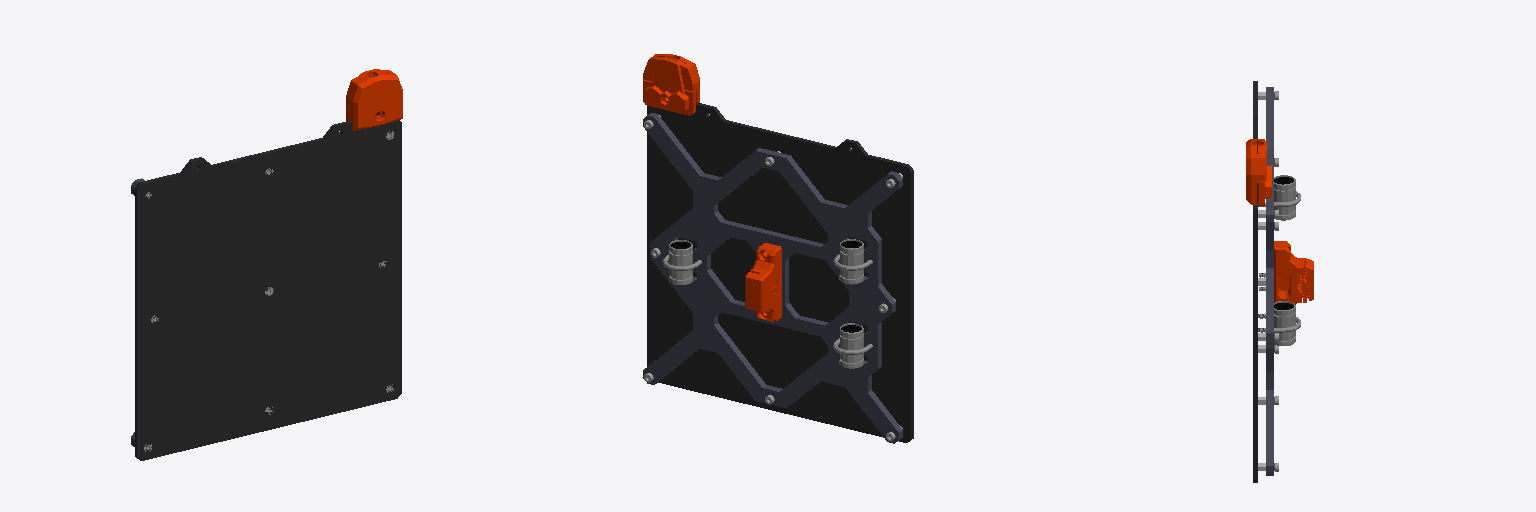
Rendered from Mini_Bed.obj.
The picture shows the model from 3 angles: view 1: azimuth 30°, elevation 25°; view 2: azimuth 150°, elevation 25°; view 3: azimuth 270°, elevation 25°; orthographic projection.
Parts seen in each view (by area): view 1: Bed_assembly; view 2: Bed_assembly; view 3: Bed_assembly.
Part boxes in pixels (x1,y1,x2,y2): Bed_assembly: (131,69,402,460); Bed_assembly: (643,54,913,443); Bed_assembly: (1246,81,1313,482).
Size of the model in its own units: 186 by 220 by 41.25.